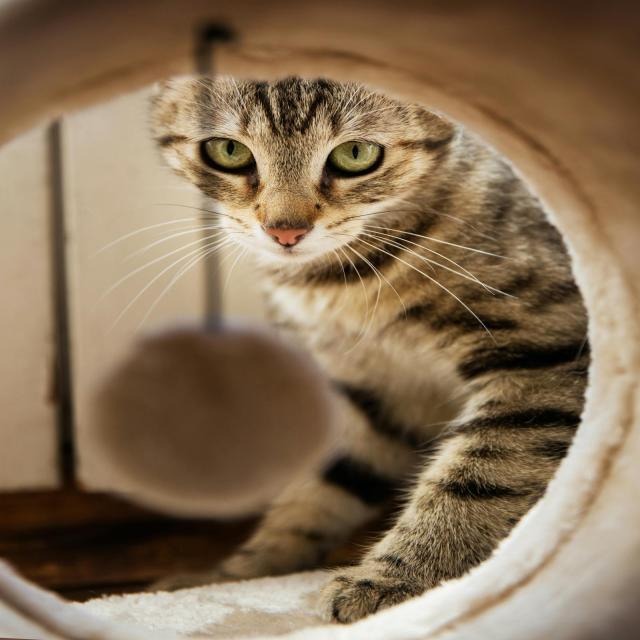Cat: (90, 72, 590, 625)
